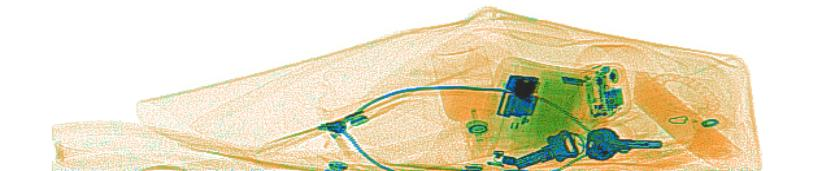plasticBottleWithaNozzle: (429, 43, 502, 163)
